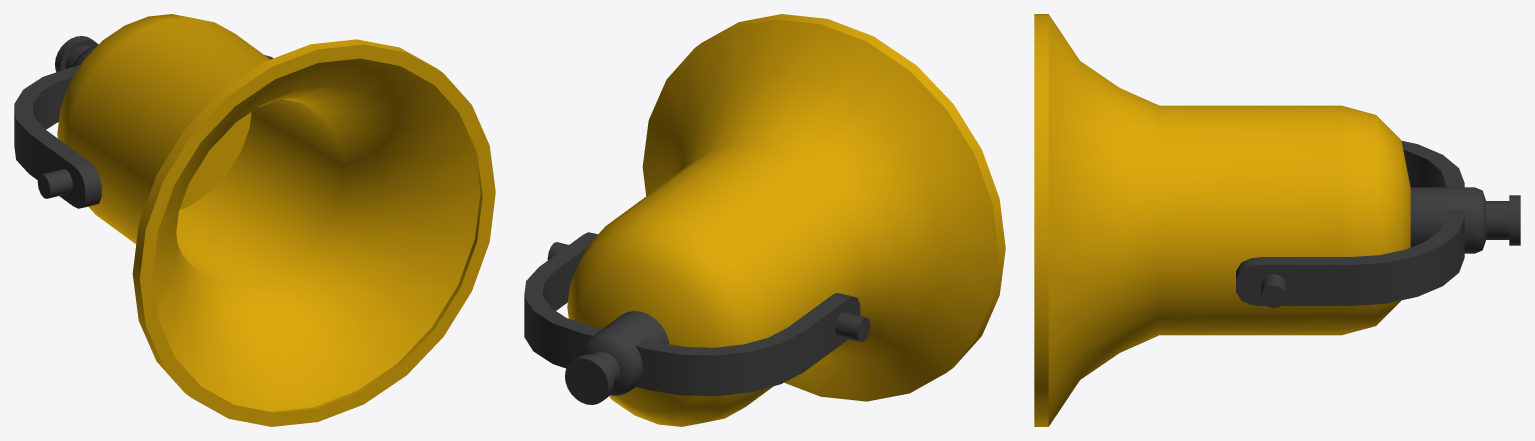
Rendered from SteamLocomotive_01_Bell.fbx.
3 renders of one model, left to right at view 1: azimuth 30°, elevation 25°; view 2: azimuth 150°, elevation 25°; view 3: azimuth 270°, elevation 25°, orthographic.
Visible parts, largest first — view 1: SteamLocomotive_01_Bell; view 2: SteamLocomotive_01_Bell; view 3: SteamLocomotive_01_Bell.
Part boxes in pixels (x1,y1,x2,y2): SteamLocomotive_01_Bell: (14, 14, 495, 426); SteamLocomotive_01_Bell: (524, 14, 1005, 426); SteamLocomotive_01_Bell: (1034, 14, 1520, 426).
Bounding box in the file's own units: 0.5488 × 0.5488 × 0.6436.
